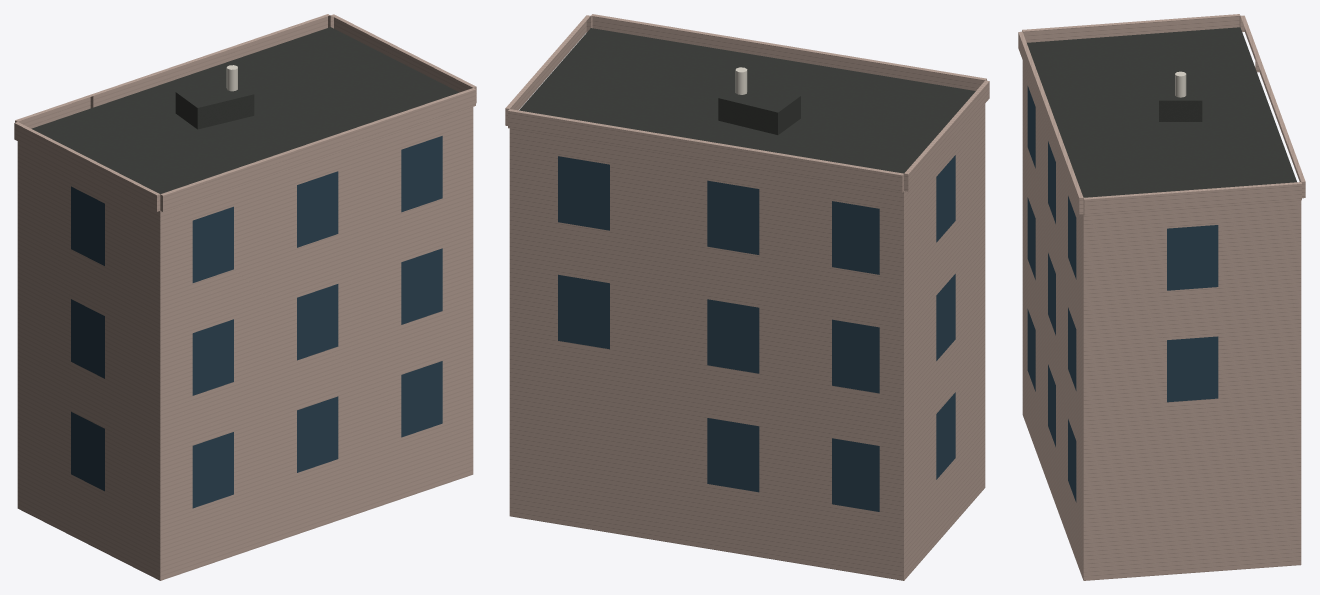
3 renders of one model, left to right at view 1: azimuth 30°, elevation 25°; view 2: azimuth 150°, elevation 25°; view 3: azimuth 270°, elevation 25°, orthographic. The views are drawn at different scales.
Parts seen in each view (by area): view 1: Footprint 0 / surface 2, Inset glazing, Footprint 0 / surface 1, Facade bay volumes, Inferred rooftop service enclosure / surface 5, Inferred rooftop service enclosure / surface 3; view 2: Footprint 0 / surface 2, Footprint 0 / surface 1, Inset glazing, Facade bay volumes, Inferred rooftop service enclosure / surface 6, Inferred rooftop service enclosure / surface 3; view 3: Footprint 0 / surface 2, Footprint 0 / surface 1, Inset glazing, Facade bay volumes, Inferred rooftop service enclosure / surface 3, Inferred rooftop service enclosure / surface 1.
Part boxes in pixels (x1=…): Footprint 0 / surface 2: x1=17, y1=107, x2=473, y2=580; Inset glazing: x1=71, y1=136, x2=442, y2=508; Footprint 0 / surface 1: x1=31, y1=27, x2=459, y2=193; Facade bay volumes: x1=14, y1=14, x2=476, y2=211; Inferred rooftop service enclosure / surface 5: x1=197, y1=94, x2=254, y2=129; Inferred rooftop service enclosure / surface 3: x1=176, y1=79, x2=253, y2=107; Footprint 0 / surface 2: x1=509, y1=104, x2=985, y2=580; Footprint 0 / surface 1: x1=519, y1=28, x2=975, y2=173; Inset glazing: x1=558, y1=155, x2=955, y2=511; Facade bay volumes: x1=505, y1=14, x2=989, y2=192; Inferred rooftop service enclosure / surface 6: x1=718, y1=98, x2=777, y2=134; Inferred rooftop service enclosure / surface 3: x1=719, y1=82, x2=800, y2=112; Footprint 0 / surface 2: x1=1022, y1=61, x2=1301, y2=580; Footprint 0 / surface 1: x1=1027, y1=27, x2=1296, y2=197; Inset glazing: x1=1027, y1=86, x2=1218, y2=502; Facade bay volumes: x1=1018, y1=14, x2=1305, y2=215; Inferred rooftop service enclosure / surface 3: x1=1159, y1=73, x2=1202, y2=100; Inferred rooftop service enclosure / surface 1: x1=1159, y1=100, x2=1202, y2=121.
Bounding box in the file's own units: 12.17 × 12.66 × 7.96.
